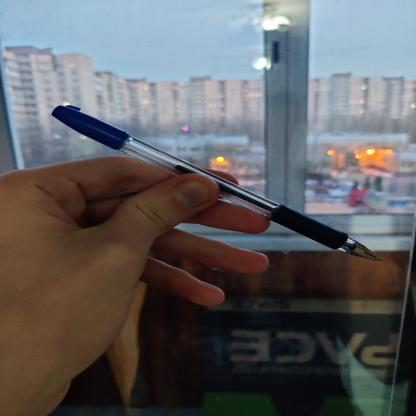pen: (36, 88, 394, 278)
